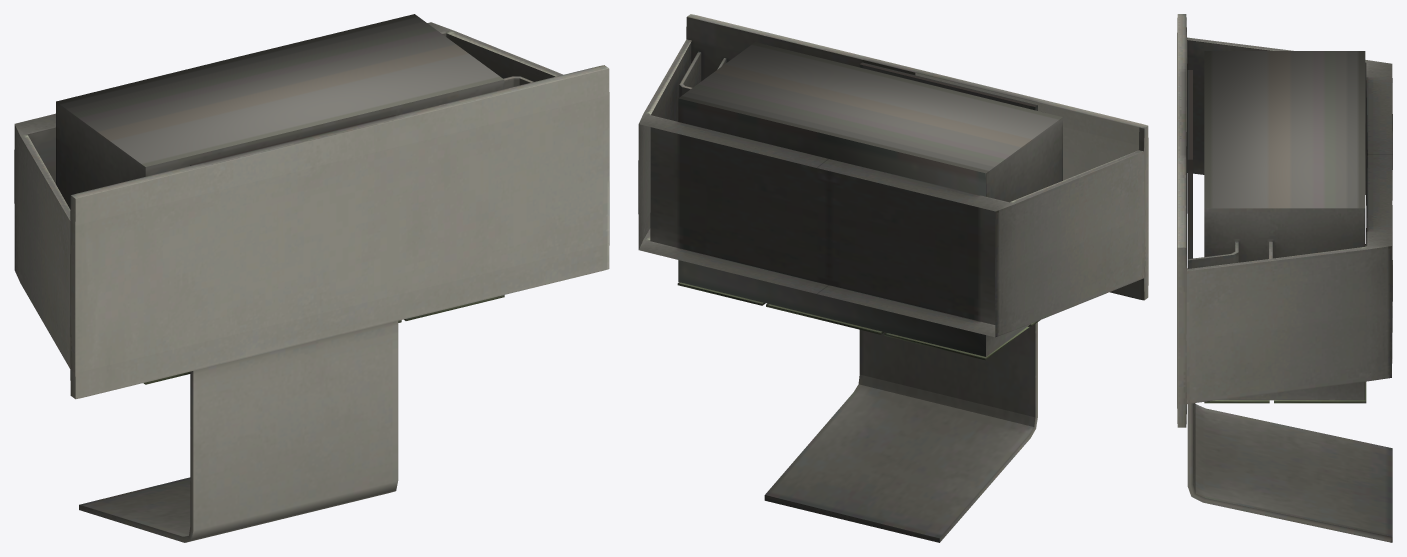
The model's file is nt_2020_modern_desk_LOD2.obj.
The picture shows the model from 3 angles, left to right: view 1: azimuth 30°, elevation 25°; view 2: azimuth 150°, elevation 25°; view 3: azimuth 270°, elevation 25°; orthographic projection. The views are drawn at different scales.
Parts seen in each view (by area): view 1: mtl_nt_2020_modern_desk; view 2: mtl_nt_2020_modern_desk; view 3: mtl_nt_2020_modern_desk.
Boxes of the visible parts, x1=… form: mtl_nt_2020_modern_desk: x1=14, y1=14, x2=609, y2=542; mtl_nt_2020_modern_desk: x1=638, y1=14, x2=1148, y2=542; mtl_nt_2020_modern_desk: x1=1177, y1=14, x2=1392, y2=542.
Bounding box in the file's own units: 211 × 162 × 82.35.
